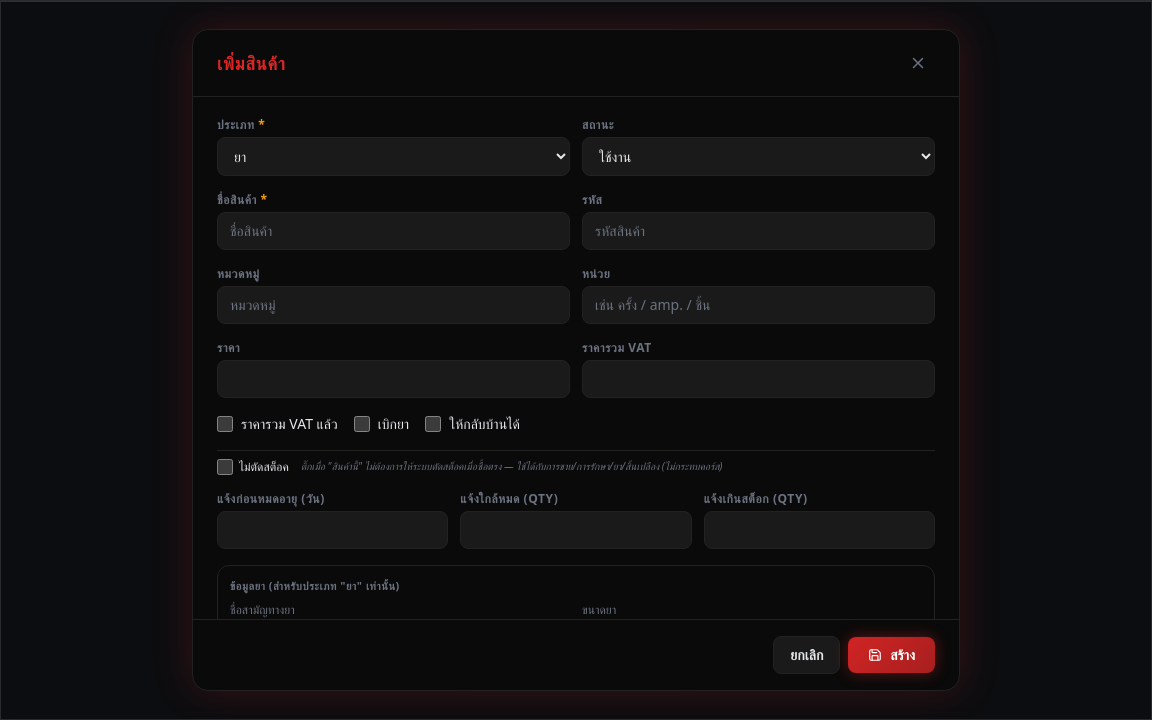
ProductFormModal › PM1: empty name rejected
Step 1. Click the button "สร้าง" → click(892, 655), box 848,637 -> 935,673
(page scrolled)
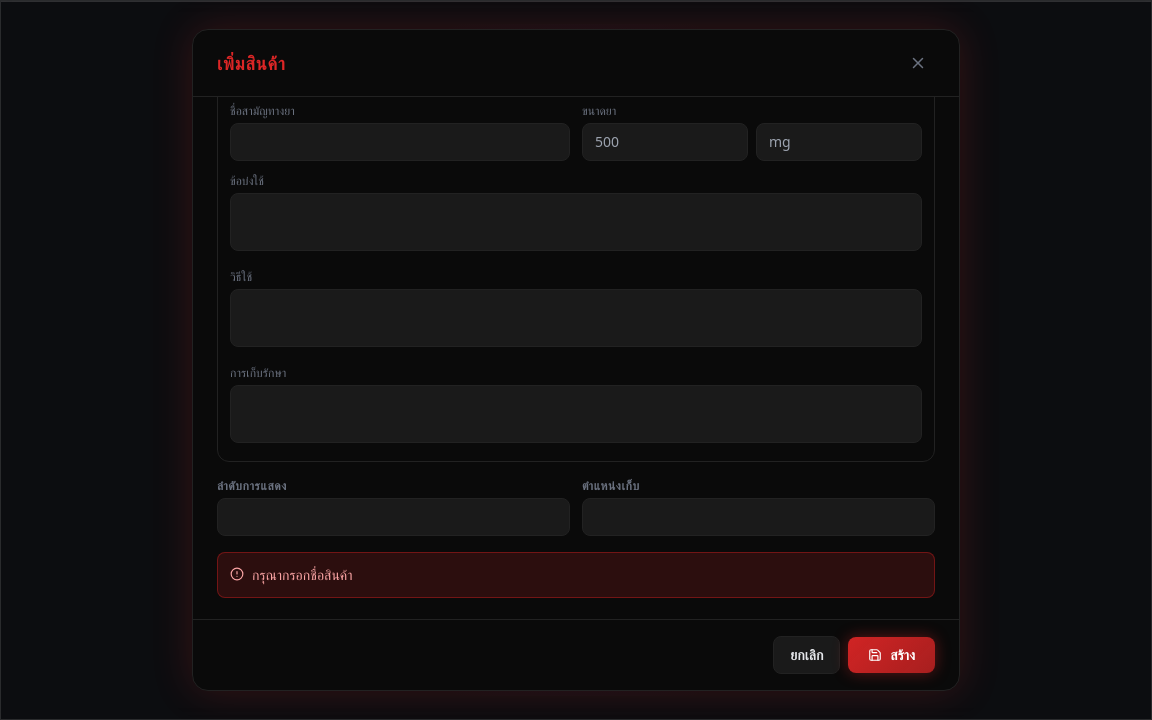
Expected: the text "กรุณากรอกชื่อสินค้า" is shown, 252,565 -> 353,585
